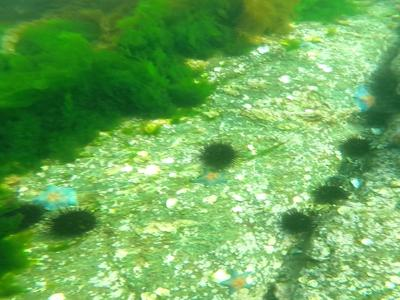urchin: (48, 205, 99, 236), (201, 140, 232, 172), (311, 184, 348, 204), (341, 139, 372, 161), (283, 210, 311, 234)
